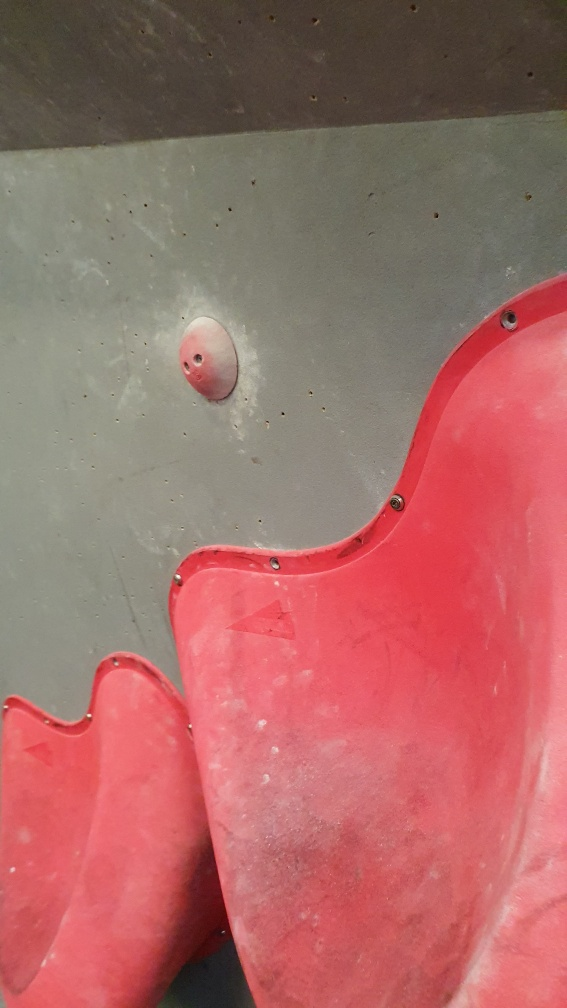Sloper: (176, 314, 245, 406)
